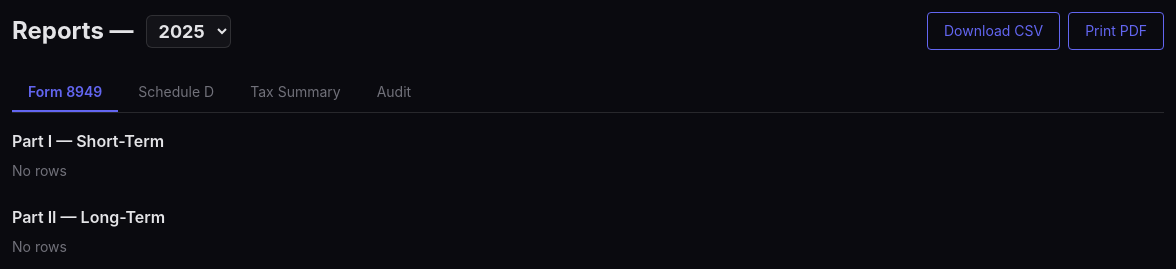
Test: Reports › switches to Audit tab with validation buttons
Expected: the heading "Part I — Short-Term" is shown, [12, 131, 164, 151]
Click the button "Audit": (394, 93) [361, 74, 427, 112]
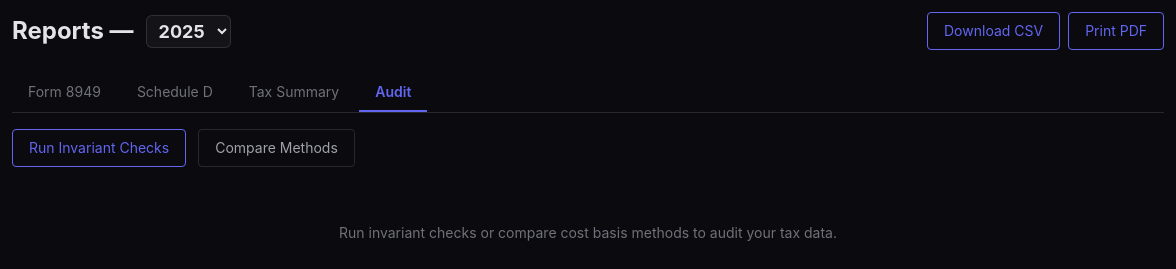
Expected: the button "Run Invariant Checks" is shown, [12, 129, 186, 167]
